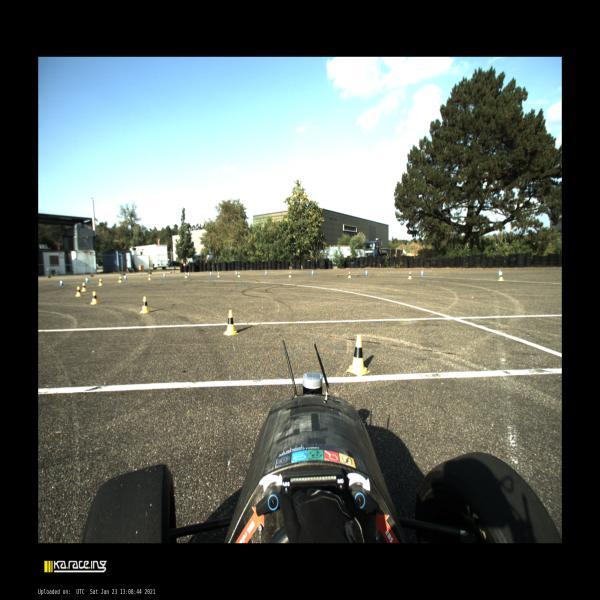blue_cone: (420, 270, 424, 276), (85, 277, 89, 283), (498, 269, 501, 277), (235, 270, 238, 276), (209, 270, 212, 276), (60, 280, 63, 286), (124, 275, 127, 280), (311, 270, 314, 275), (365, 270, 368, 275), (265, 270, 267, 276), (163, 273, 166, 277), (188, 272, 189, 276)
yellow_cone: (346, 334, 371, 377), (224, 310, 238, 336), (140, 296, 150, 313), (91, 291, 98, 305), (497, 271, 504, 281), (76, 286, 81, 297), (82, 282, 86, 292), (408, 272, 412, 279), (184, 272, 188, 278), (118, 276, 122, 282), (99, 278, 102, 286), (348, 271, 351, 278), (217, 272, 220, 277), (148, 275, 151, 280), (289, 272, 291, 278), (238, 272, 240, 278)
